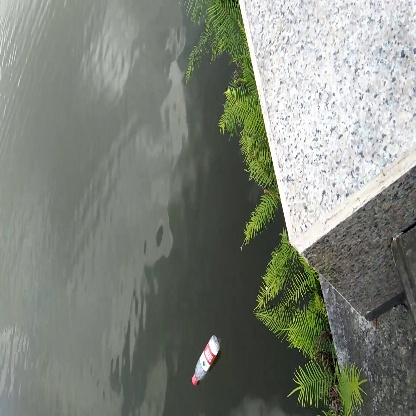bottle: (188, 334, 225, 387)
